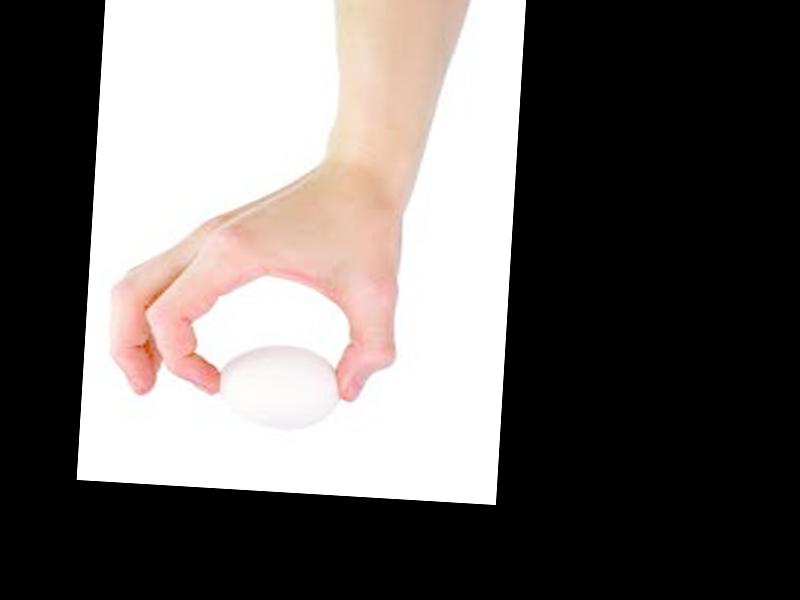Eggs: (215, 341, 341, 433)
